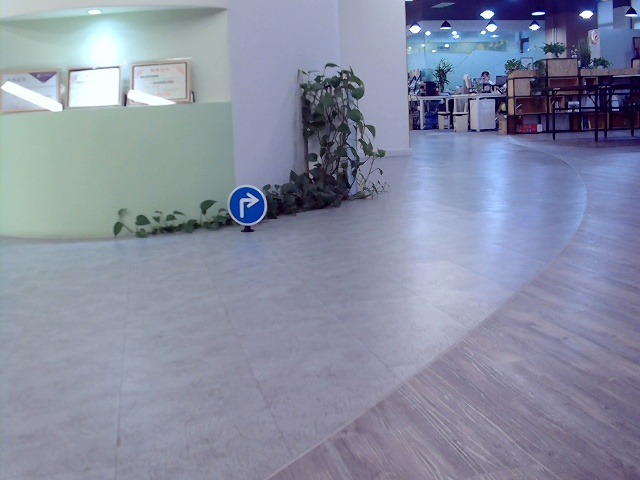turn_right: (236, 188, 257, 219)
